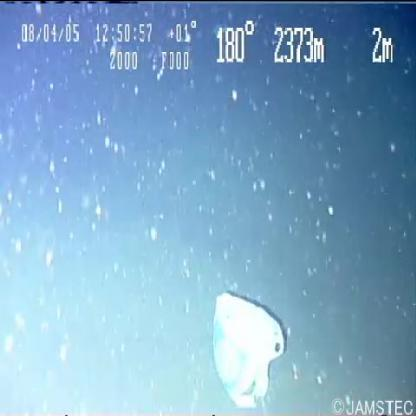Rác: (205, 276, 291, 414)
